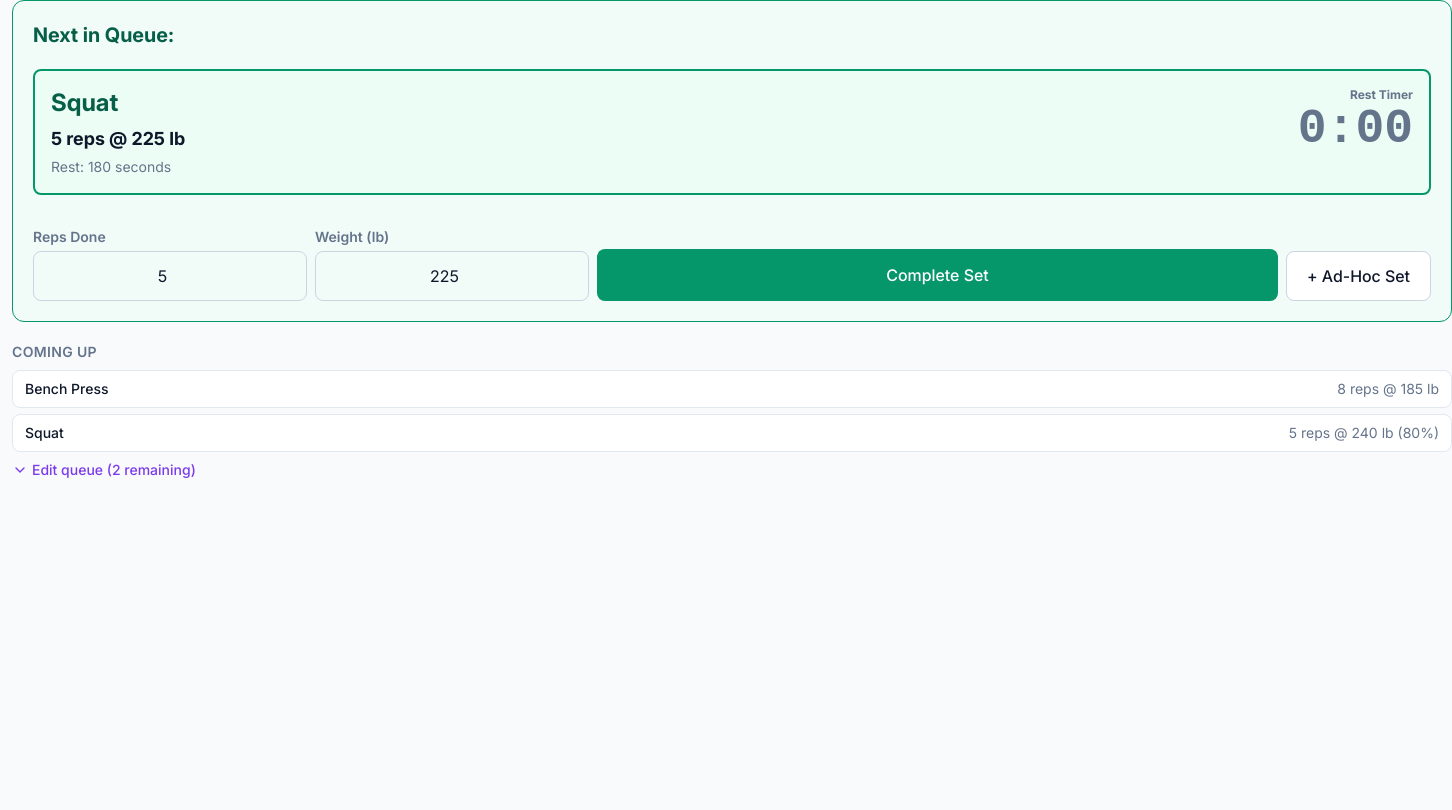
Test: SetQueue › can collapse the expanded queue table
Click the button with test id "expand-queue-btn": click(104, 470) [12,460,196,480]
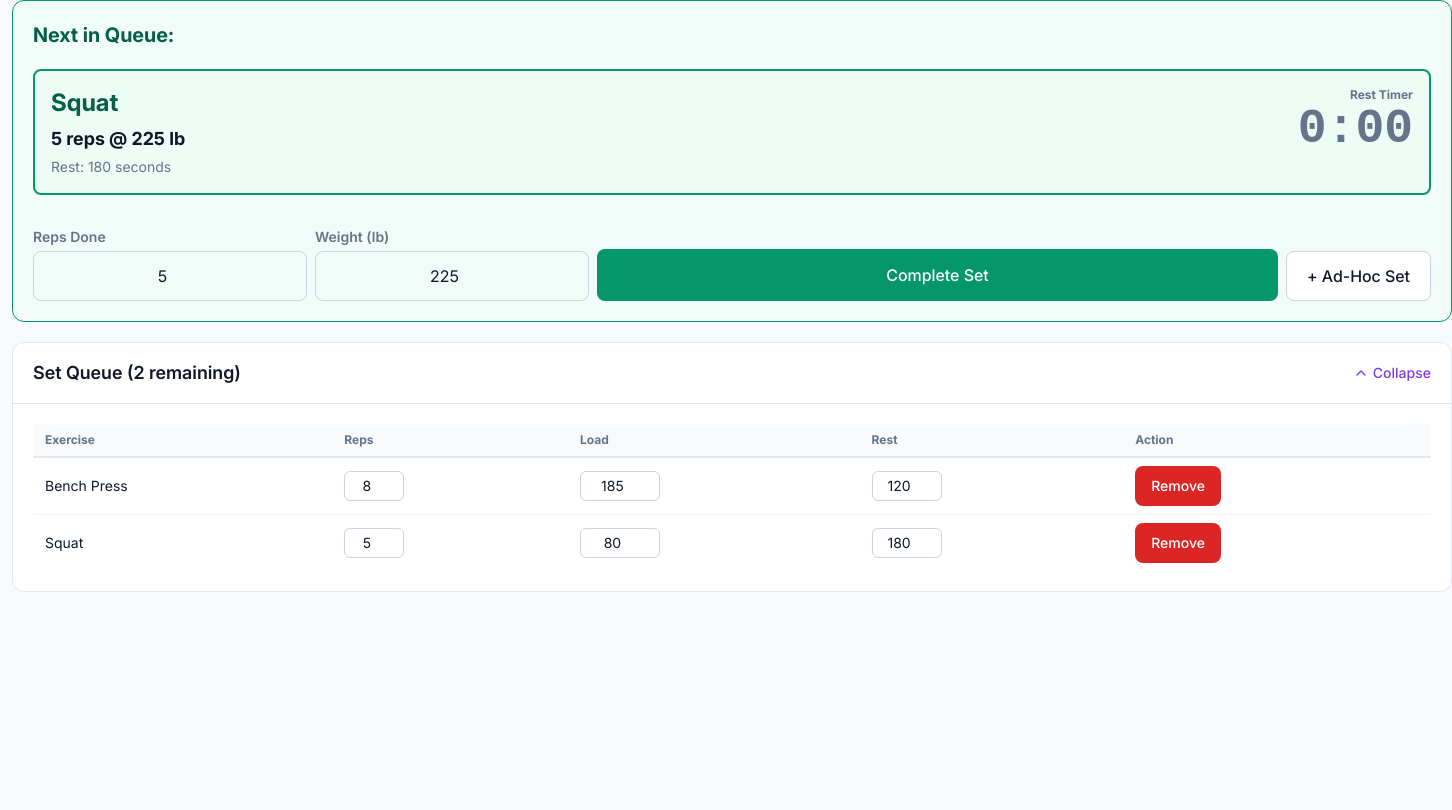
expect the element with test id "full-queue-table" is shown: met, box [12,342,1451,592]
Click the button with test id "collapse-queue-btn": click(1392, 373) [1353,363,1431,383]
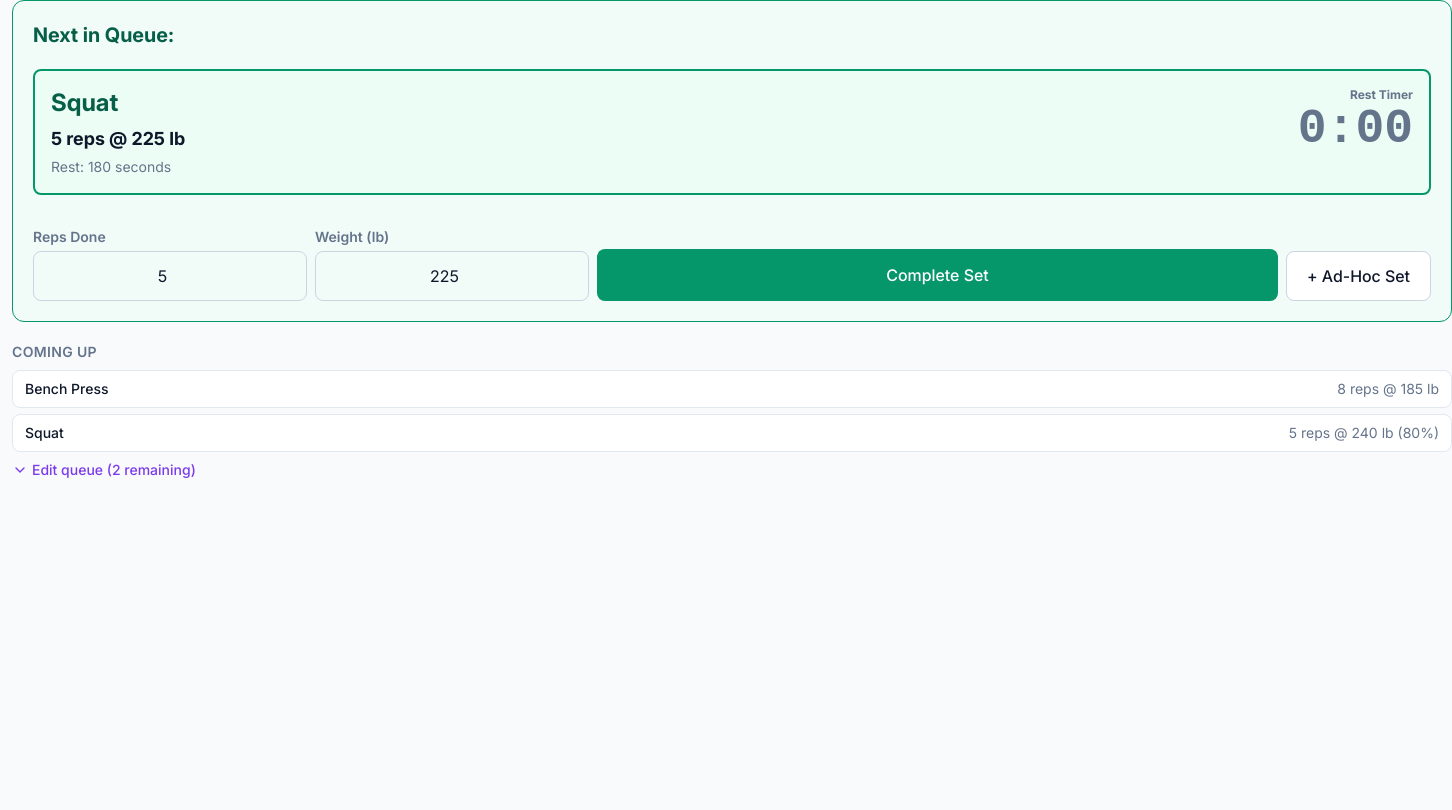
expect the element with test id "full-queue-table" is gone: met
expect the element with test id "coming-up-preview" is shown: met, box [12,342,1451,480]
